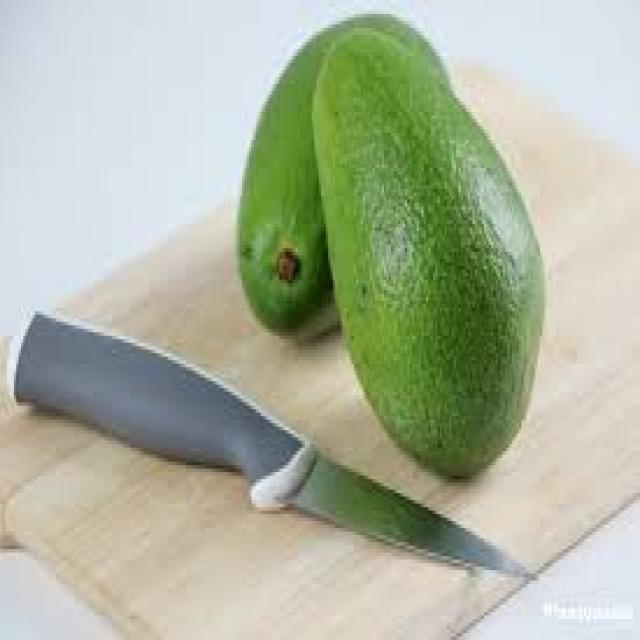Avocado: (308, 44, 556, 490), (213, 56, 335, 337)
